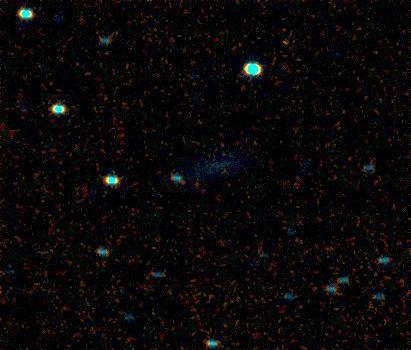star: (270, 27, 300, 57)
